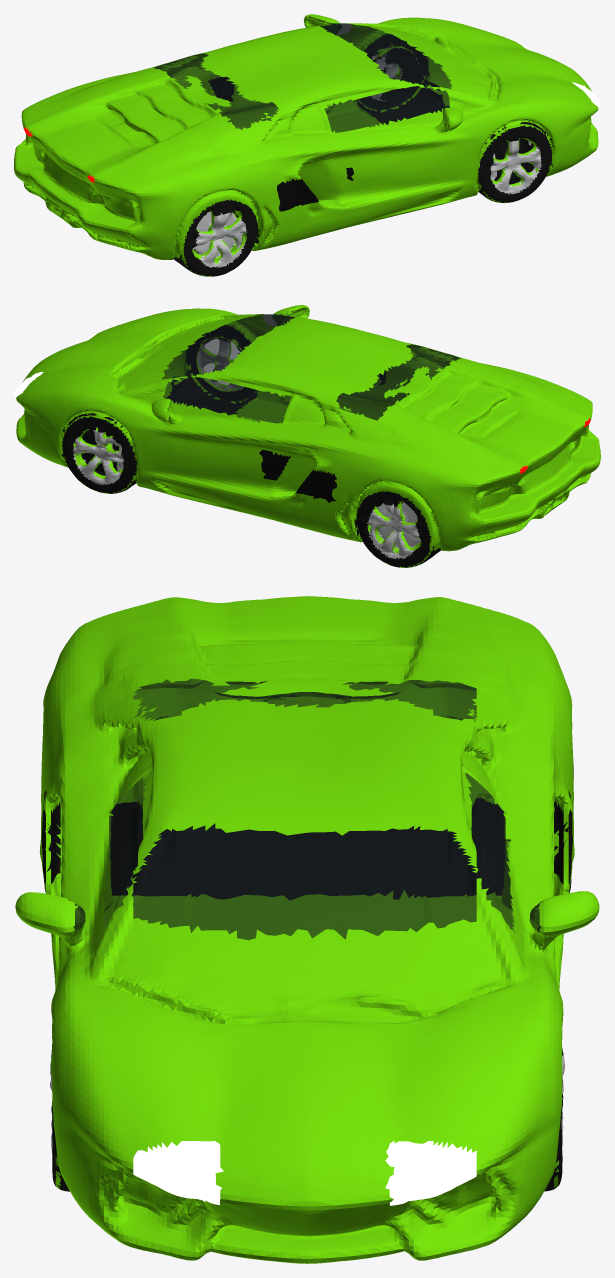
The model's file is hero.glb.
3 views of the same model, one above another, from view 1: azimuth 30°, elevation 25°; view 2: azimuth 150°, elevation 25°; view 3: azimuth 270°, elevation 25° (orthographic). The views are drawn at different scales.
Visible parts, largest first — view 1: world; view 2: world; view 3: world.
Boxes of the visible parts, x1,y1,x2,y2 form: world: (14, 14, 600, 276); world: (14, 305, 600, 567); world: (15, 596, 599, 1263).
Bounding box in the file's own units: 4.8 × 1.17 × 2.29.
